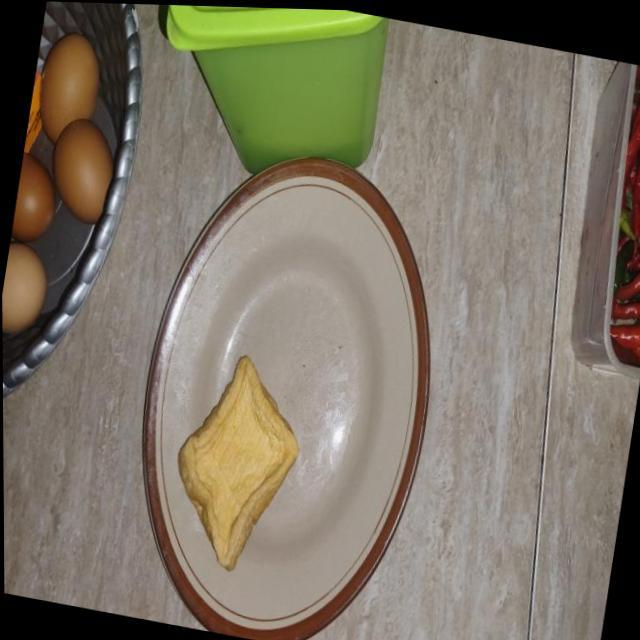tahu_goreng: (178, 356, 299, 570)
